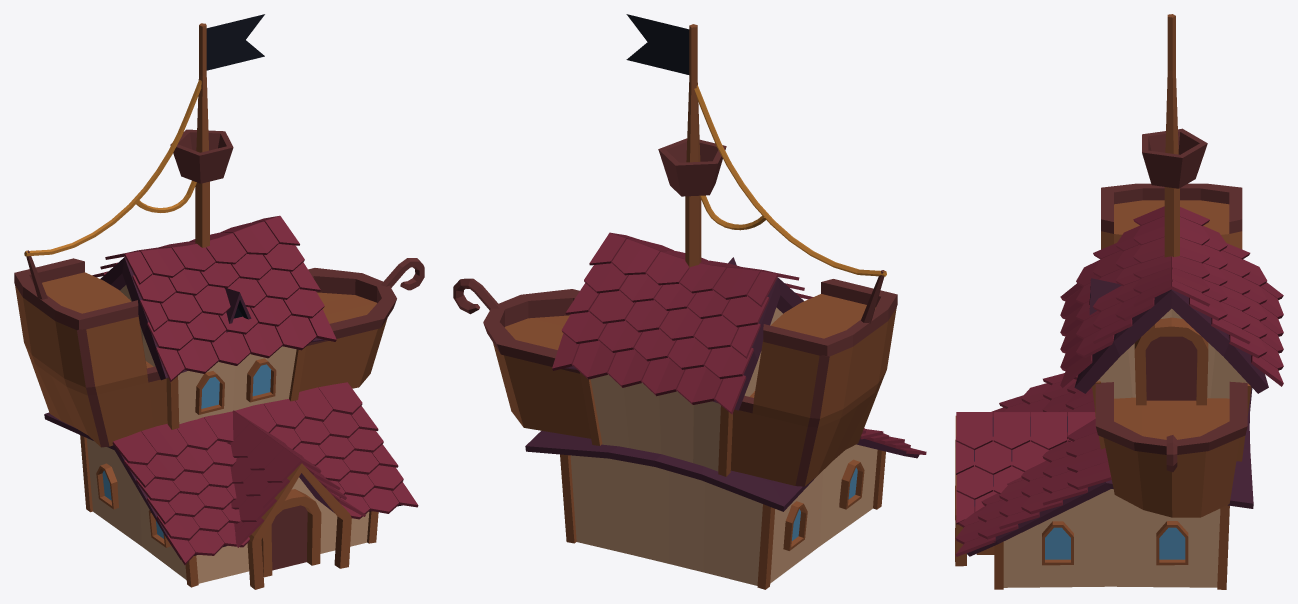
Rendered from house.glb.
3 views of the same model, side by side, from view 1: azimuth 30°, elevation 25°; view 2: azimuth 150°, elevation 25°; view 3: azimuth 270°, elevation 25° (orthographic). The views are drawn at different scales.
Parts seen in each view (by area): view 1: балка.005; view 2: балка.005; view 3: балка.005.
Boxes of the visible parts, x1=… form: балка.005: x1=14, y1=14, x2=424, y2=589; балка.005: x1=453, y1=14, x2=926, y2=589; балка.005: x1=955, y1=14, x2=1283, y2=589.
Size of the model in its own units: 6.99 by 8.06 by 4.57.
1 material, 1 textured.
